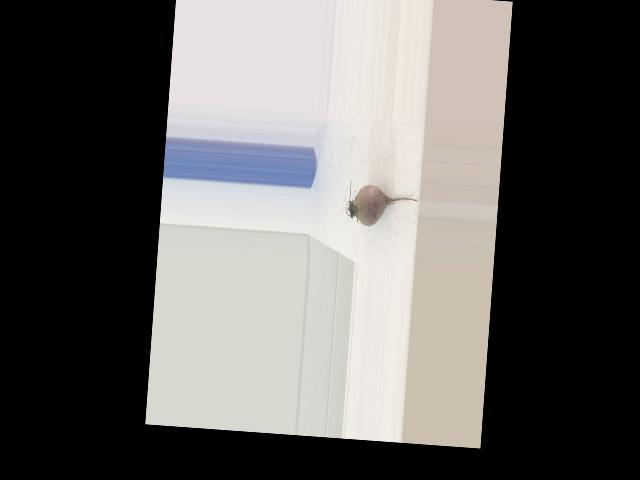beet: (344, 179, 419, 229)
